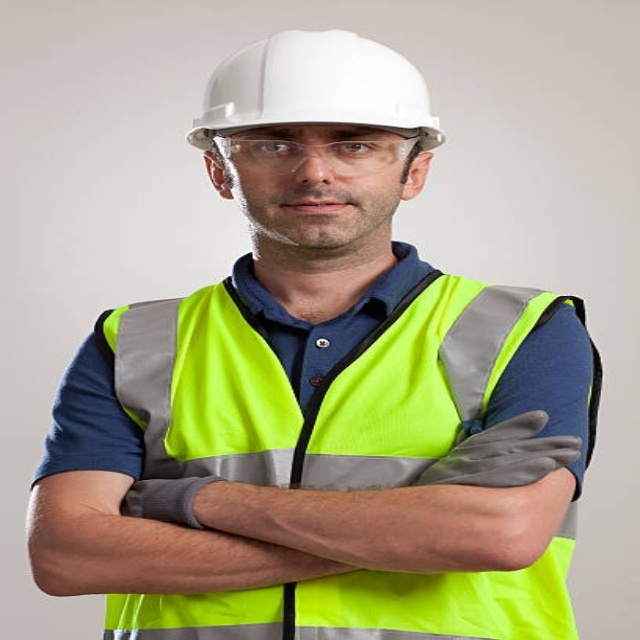Gafas: (221, 134, 417, 177)
Guantes: (417, 410, 583, 489), (122, 475, 228, 530)
Sin_mascara: (273, 195, 362, 239)
